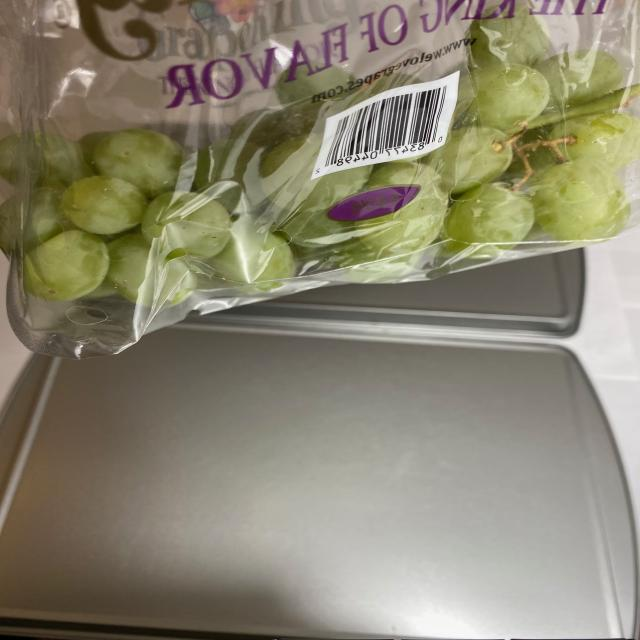grapes: (10, 27, 630, 308)
